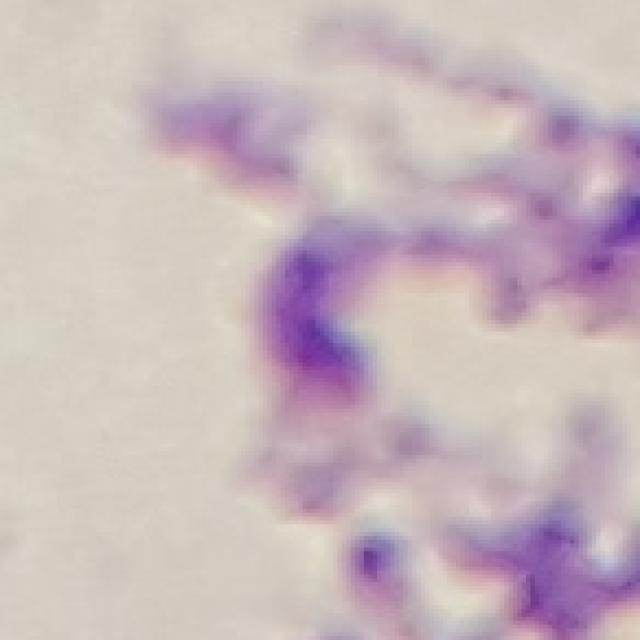non-sperm: (254, 200, 640, 640)
